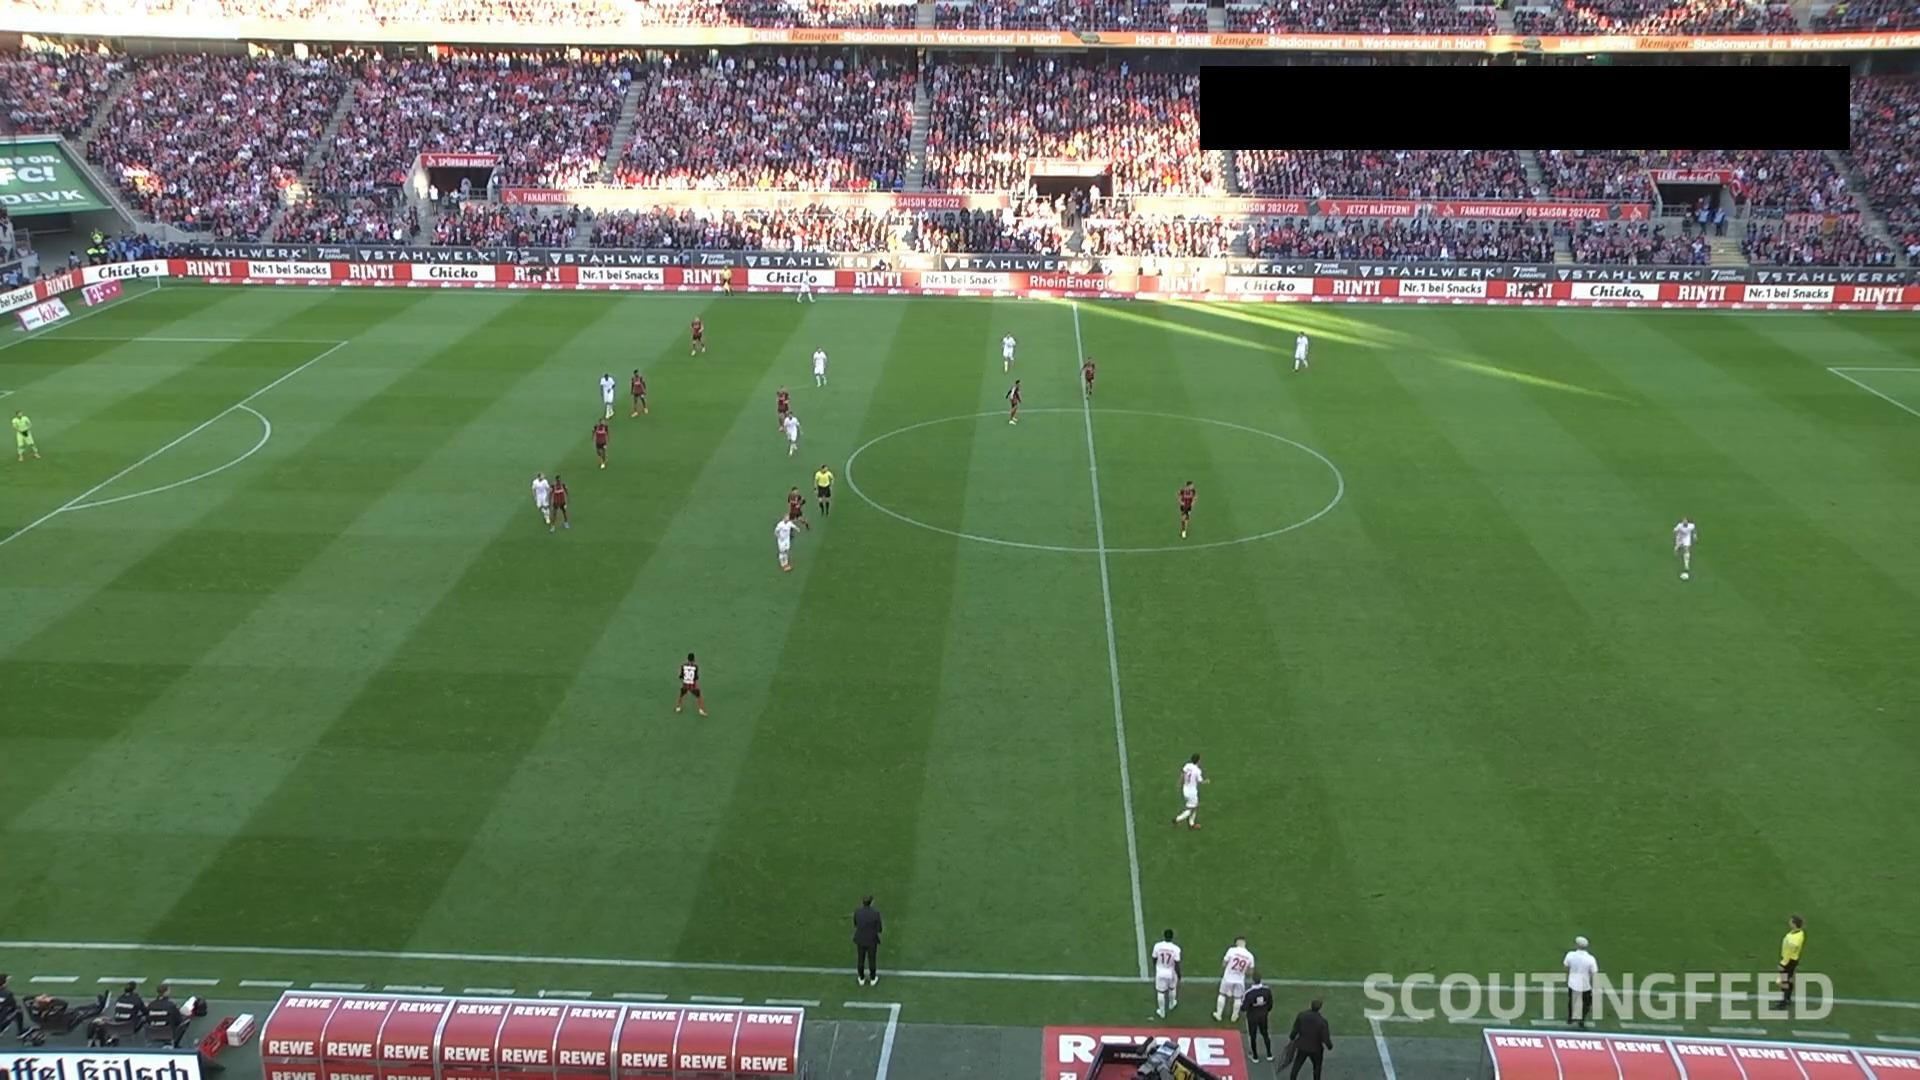ball: (1680, 570, 1691, 582)
